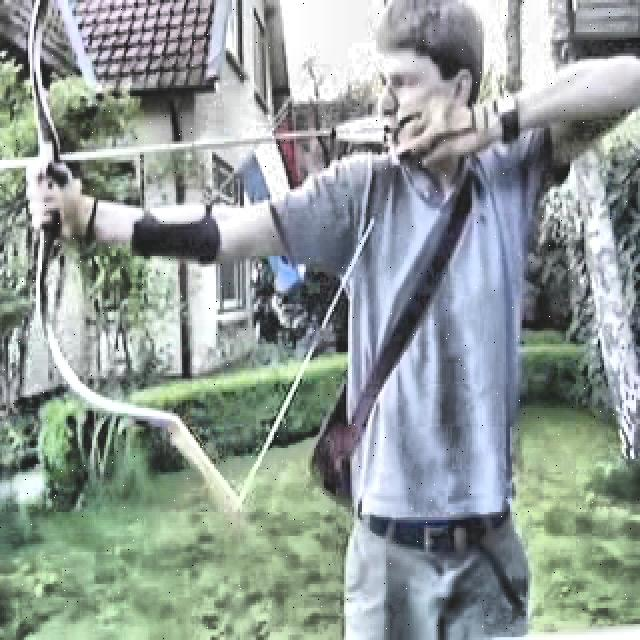P: (21, 6, 556, 640)
